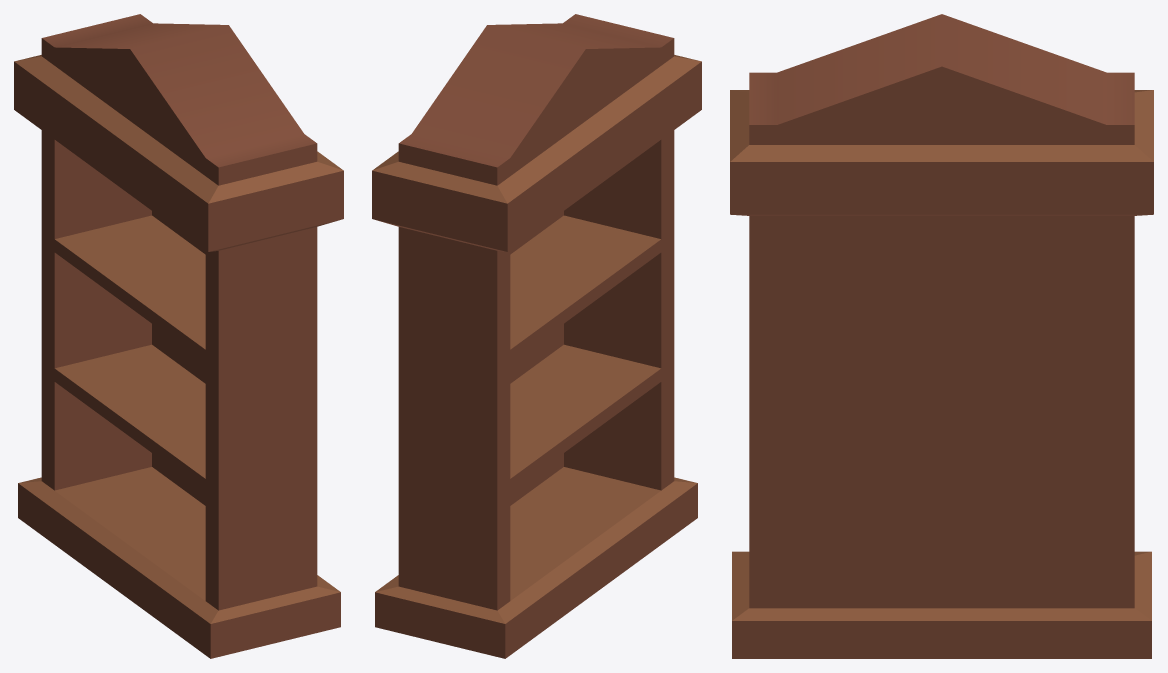
The model's file is BookShelf1.FBX.
3 renders of one model, left to right at view 1: azimuth 30°, elevation 25°; view 2: azimuth 150°, elevation 25°; view 3: azimuth 270°, elevation 25°, orthographic. The views are drawn at different scales.
Visible parts, largest first — view 1: BookShelf1; view 2: BookShelf1; view 3: BookShelf1.
Part boxes in pixels (<box>): BookShelf1: <box>14,14,343,658</box>; BookShelf1: <box>372,14,701,658</box>; BookShelf1: <box>730,14,1153,658</box>.
Size of the model in its own units: 0.6423 by 2.42 by 1.59.
